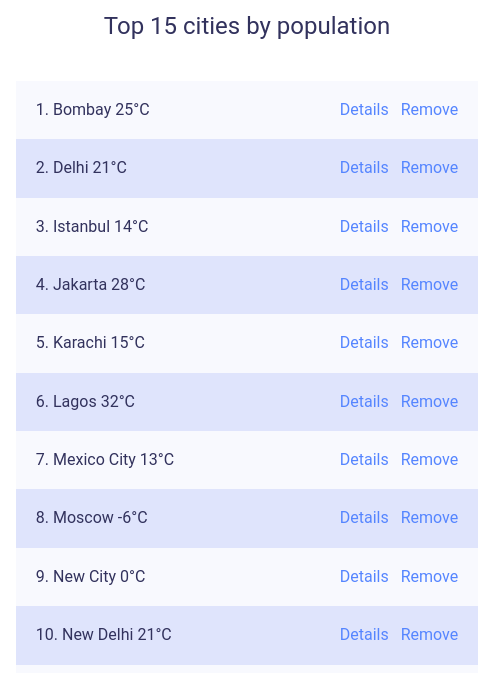
Test case: removes Bombay from top 15 cities by population
This screenshot has width=495, height=673.
Expected: the text "1. Bombay 25°C" is shown, x1=36 y1=101 x2=150 y2=119
What coordinates should you click on to do the following:
click the link "Remove" in the row of "25"
I would click on:
 (429, 109)
Its box is x1=401 y1=100 x2=458 y2=119.
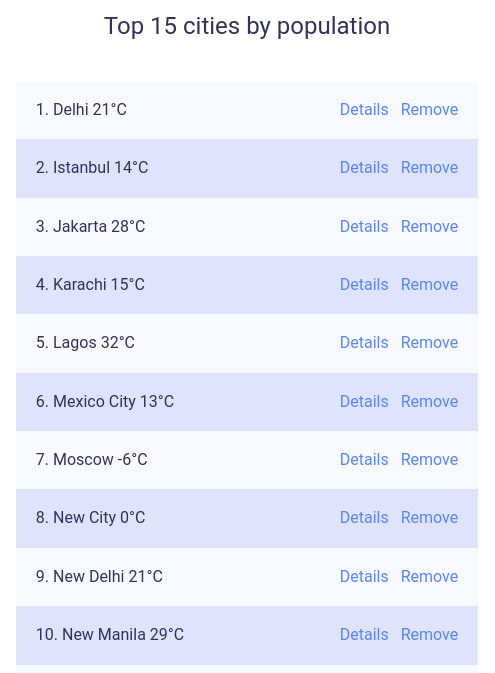
Now the text "Bombay" is gone
